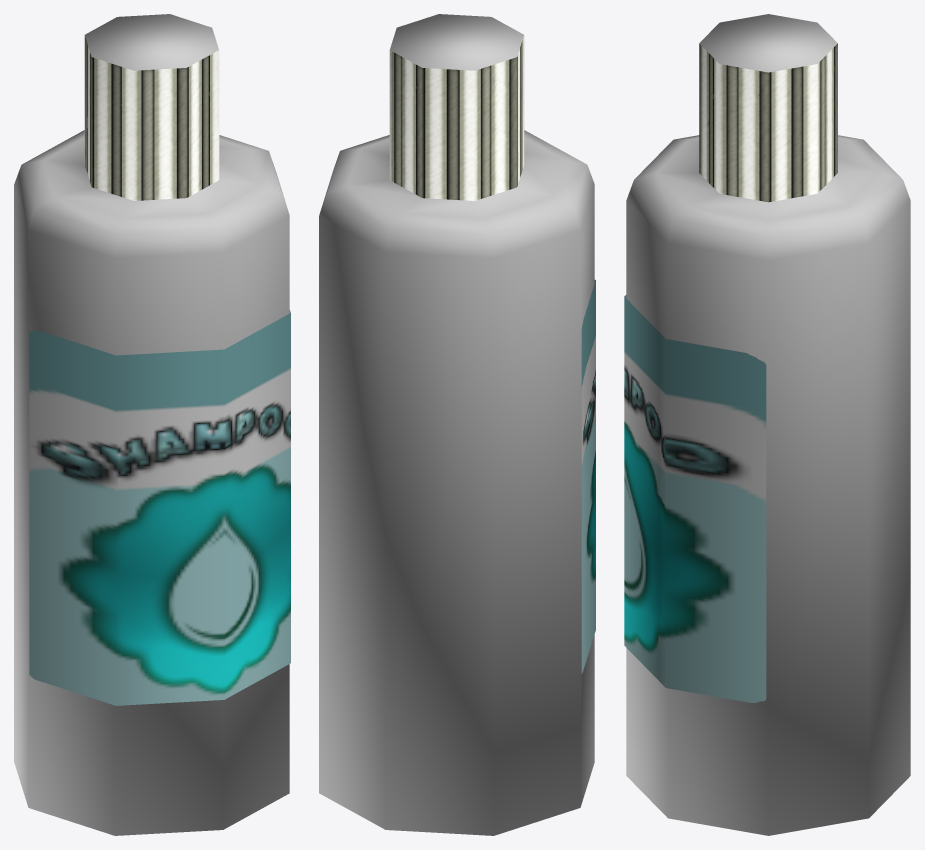
Rendered from Shampoo.FBX.
The picture shows the model from 3 angles, left to right: view 1: azimuth 30°, elevation 25°; view 2: azimuth 150°, elevation 25°; view 3: azimuth 270°, elevation 25°; orthographic projection.
Visible parts, largest first — view 1: Bottle; view 2: Bottle; view 3: Bottle.
Boxes of the visible parts, x1,y1,x2,y2 form: Bottle: (14,14,290,835); Bottle: (319,14,595,835); Bottle: (624,14,910,835).
Size of the model in its own units: 16.86 by 47.93 by 16.98.
